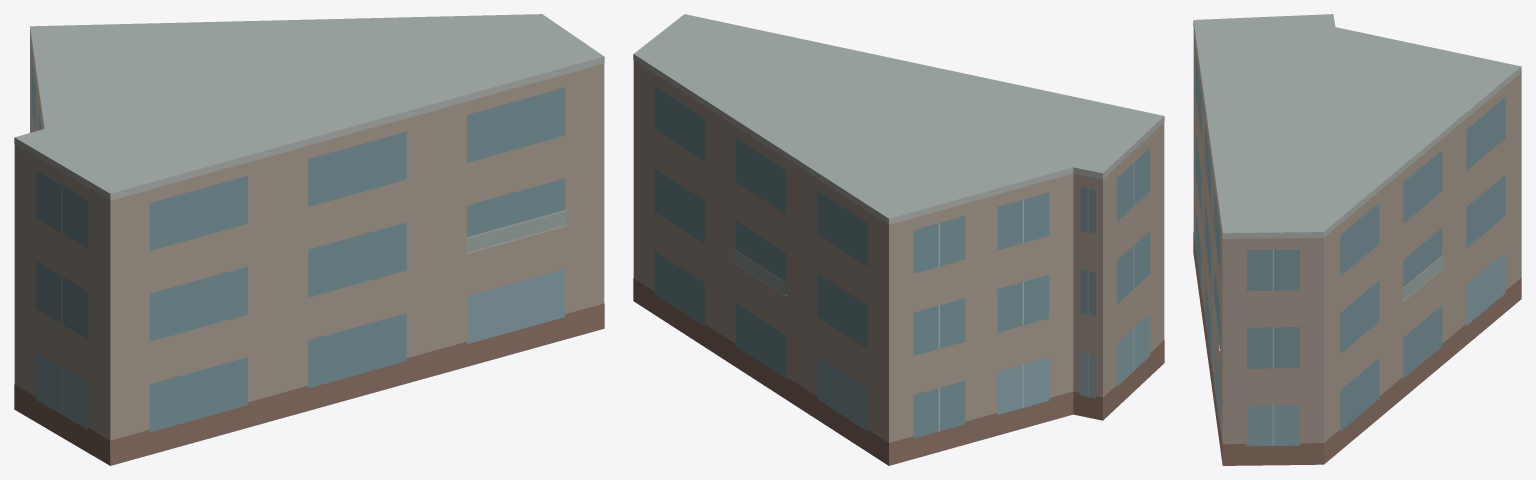
File: survey-upis-32954129.glb
3 renders of one model, left to right at view 1: azimuth 30°, elevation 25°; view 2: azimuth 150°, elevation 25°; view 3: azimuth 270°, elevation 25°, orthographic. The views are drawn at different scales.
Parts seen in each view (by area): view 1: survey-upis-32954129.tmp; view 2: survey-upis-32954129.tmp; view 3: survey-upis-32954129.tmp.
Part boxes in pixels (box(x1,y1,x2,y2)): survey-upis-32954129.tmp: box(14, 14, 604, 465); survey-upis-32954129.tmp: box(633, 14, 1164, 465); survey-upis-32954129.tmp: box(1193, 14, 1521, 465).
Size of the model in its own units: 19.61 by 9.7 by 12.4.
